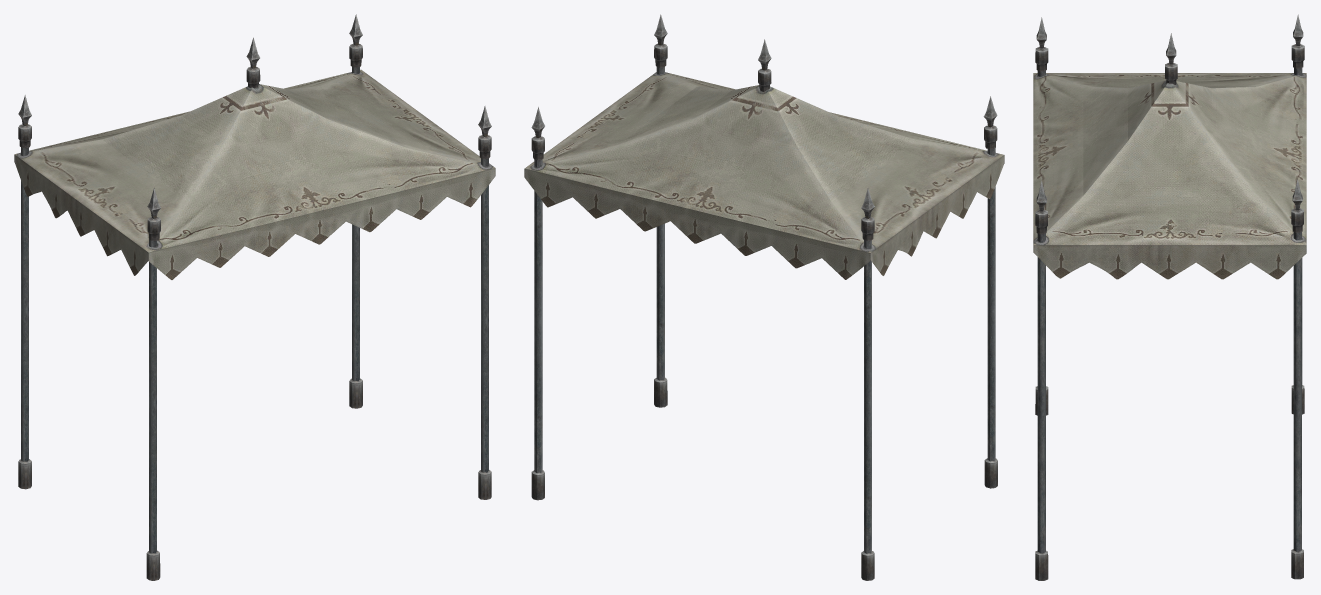
Rendered from bg_lut_lucastle_tent04_sm_msj.FBX.
3 views of the same model, side by side, from view 1: azimuth 30°, elevation 25°; view 2: azimuth 150°, elevation 25°; view 3: azimuth 270°, elevation 25° (orthographic).
Parts seen in each view (by area): view 1: bg_lut_lucastle_tent04_sm_msj; view 2: bg_lut_lucastle_tent04_sm_msj; view 3: bg_lut_lucastle_tent04_sm_msj.
Part boxes in pixels (x1=…): bg_lut_lucastle_tent04_sm_msj: x1=14, y1=14, x2=495, y2=580; bg_lut_lucastle_tent04_sm_msj: x1=524, y1=14, x2=1004, y2=580; bg_lut_lucastle_tent04_sm_msj: x1=1033, y1=14, x2=1306, y2=580.
Bounding box in the file's own units: 320 × 402 × 215.
